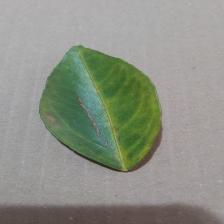greening: (99, 54, 164, 128)
